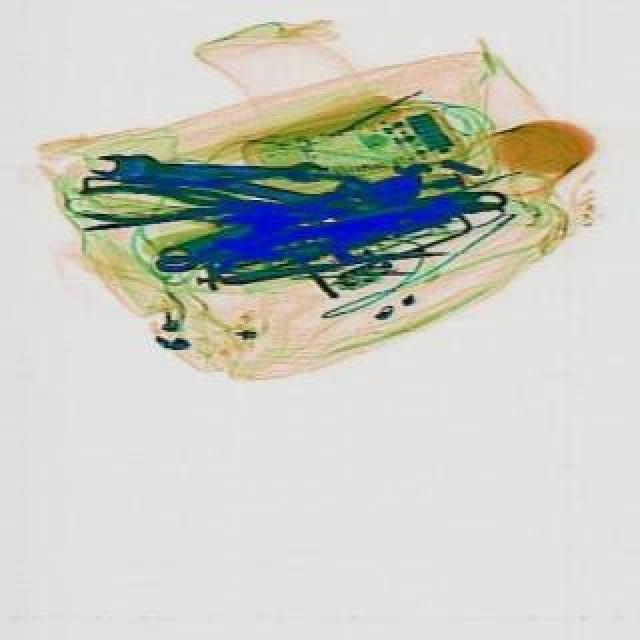scissors: (86, 156, 326, 190)
